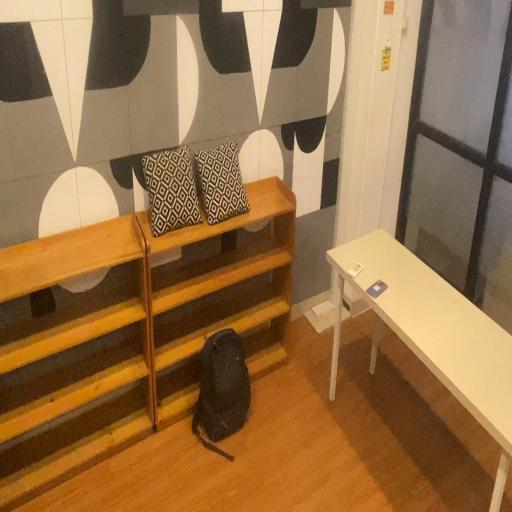bantal: (140, 142, 206, 238), (194, 135, 254, 227)
hp: (364, 274, 388, 306)
lemari: (0, 196, 154, 512), (131, 165, 302, 441)
meja: (322, 216, 512, 512)
remote AC: (346, 256, 366, 286)
tas ransel: (189, 321, 252, 456)
